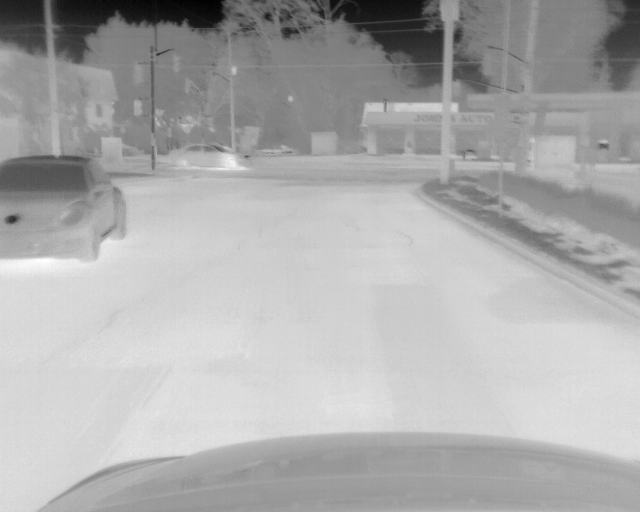car: (1, 154, 128, 265), (169, 142, 244, 171)
